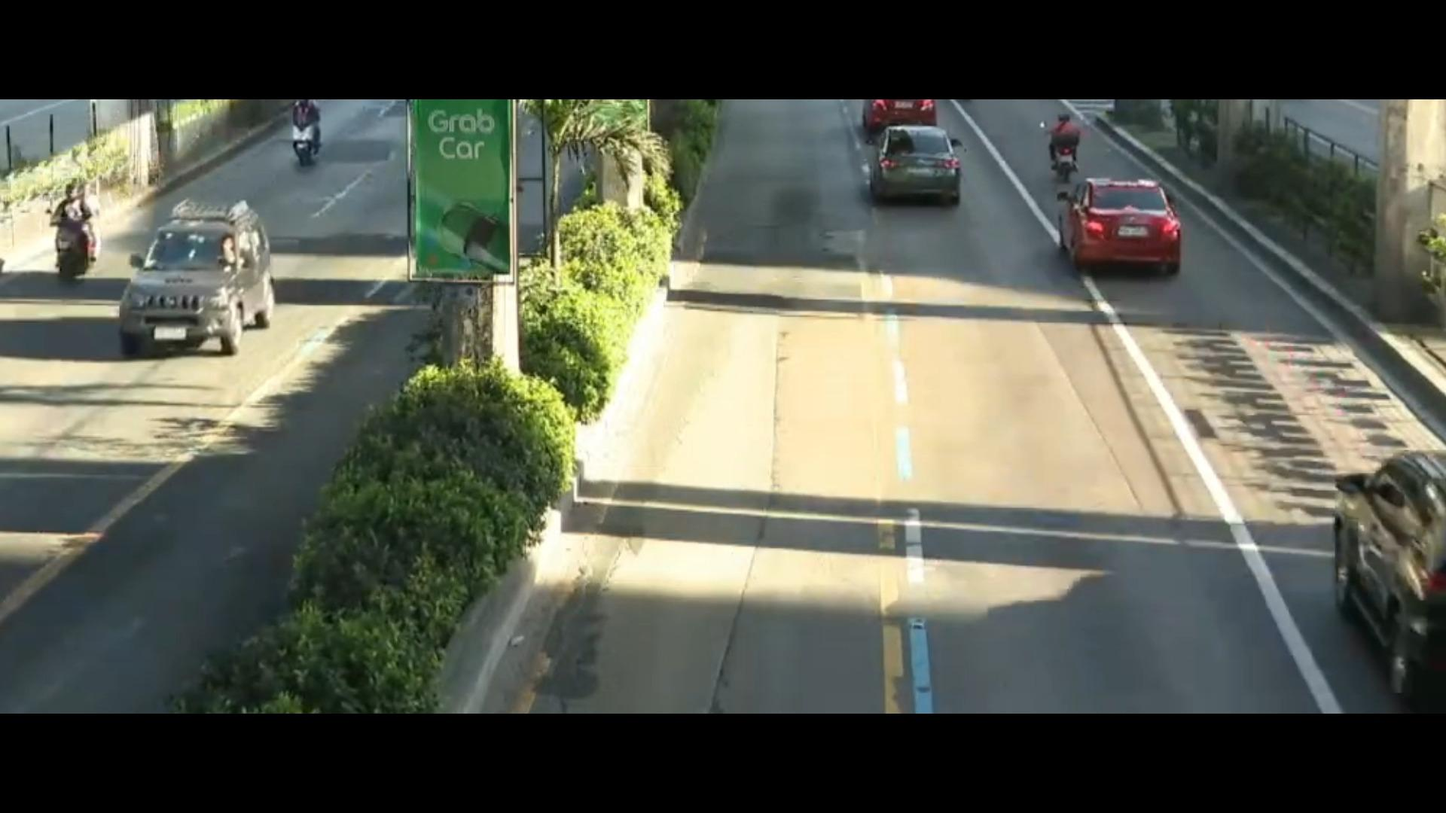Motorcycle: (268, 65, 352, 162), (43, 172, 115, 285), (1039, 104, 1096, 193)
SUV: (1269, 422, 1446, 703)
Sedan: (94, 187, 283, 393), (1039, 166, 1200, 288), (852, 115, 976, 220)
